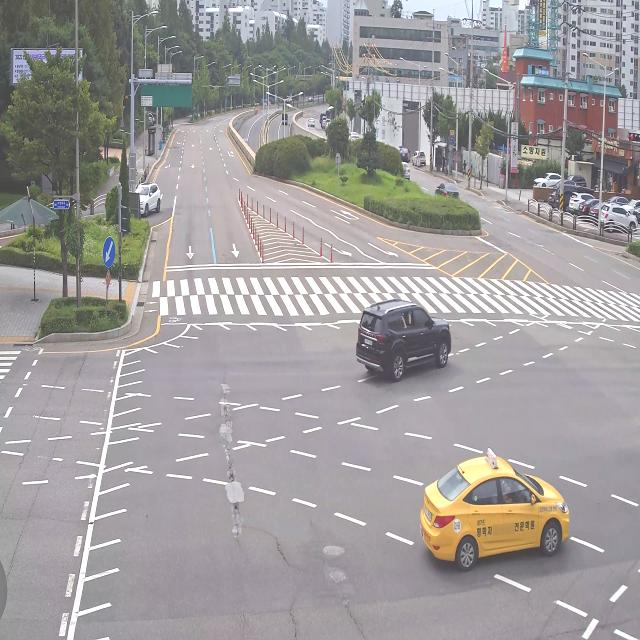Car: (403, 441, 580, 577), (346, 294, 468, 386), (128, 162, 183, 227), (554, 180, 587, 213), (601, 202, 636, 233), (434, 175, 462, 209), (531, 164, 560, 192), (588, 197, 616, 223), (569, 188, 597, 212), (580, 194, 604, 216), (556, 173, 585, 190), (411, 146, 427, 169), (620, 197, 640, 214), (398, 160, 412, 183), (606, 192, 628, 205), (398, 144, 412, 163), (545, 184, 555, 207), (348, 128, 359, 143), (633, 203, 640, 221), (307, 114, 314, 128), (318, 111, 326, 123), (321, 116, 326, 128), (322, 120, 326, 130)
Truck: (325, 118, 332, 134), (281, 111, 288, 126)
